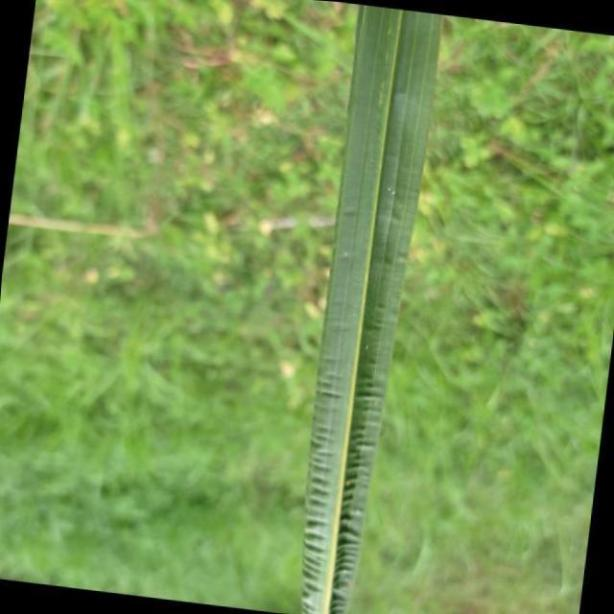Boron: (301, 0, 446, 614)
